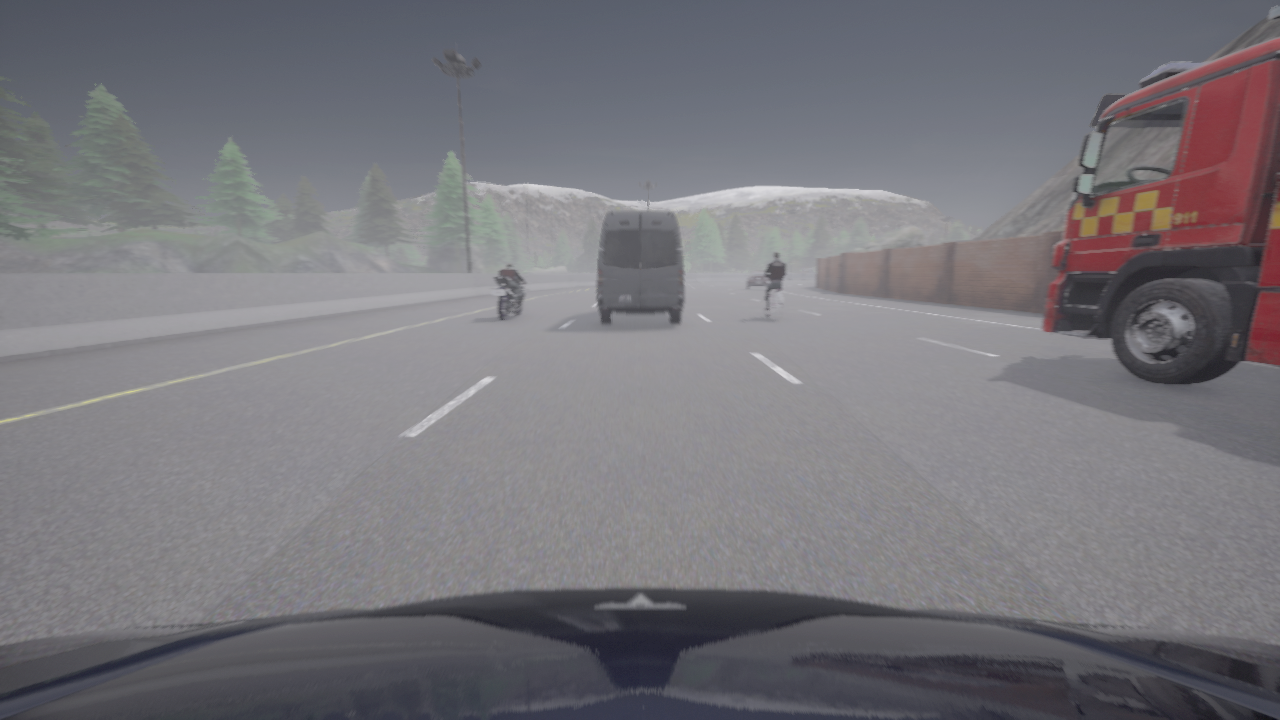cyclist: (0, 588, 1279, 719), (1041, 6, 1279, 384), (596, 211, 683, 323), (490, 274, 529, 321), (763, 281, 782, 320), (746, 270, 768, 289)
